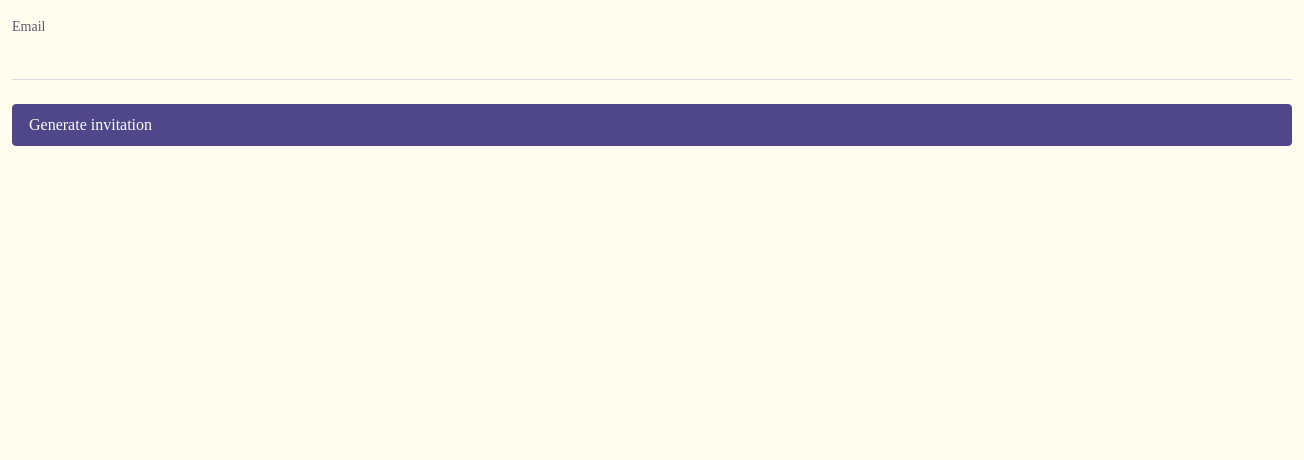
Test: shows a recoverable message when the clipboard is unavailable
Submit the form "Generate invitation", box [12,16,1292,146]
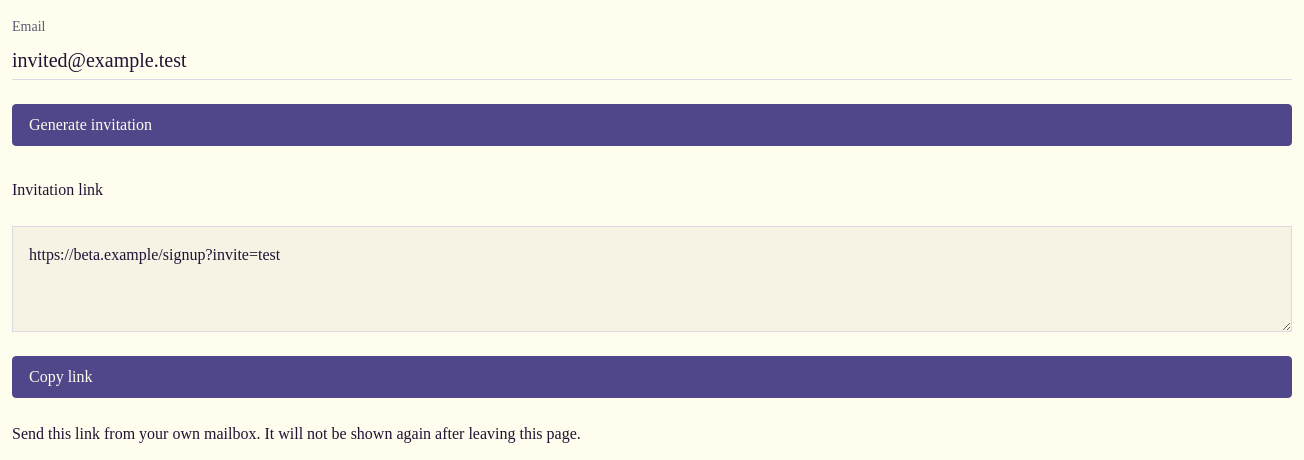
Click the button "Copy link" at [61, 376], box [12,356,1292,398]
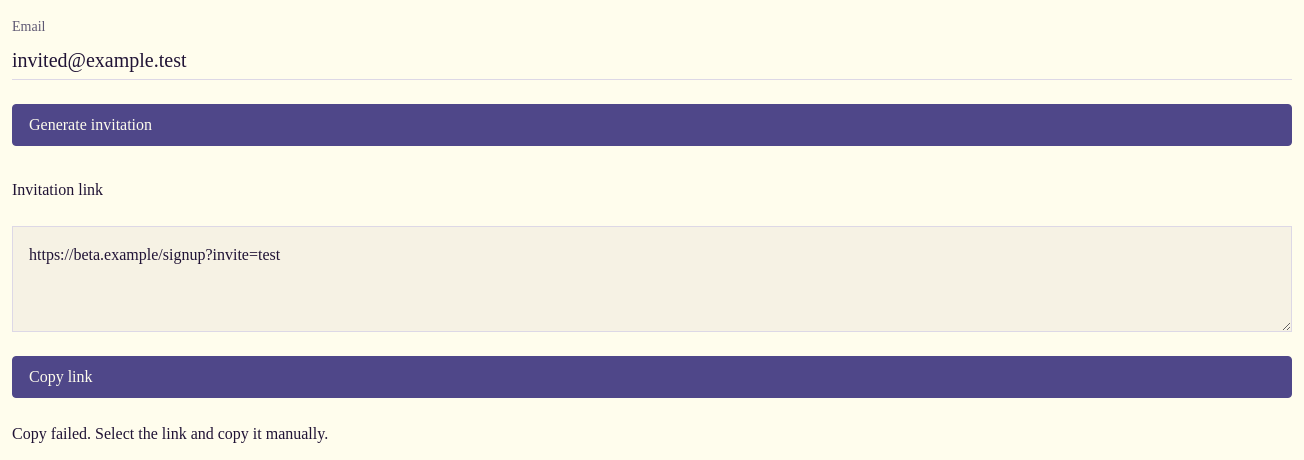
Expected: the message shows "copy it manually", [12,425,328,442]
